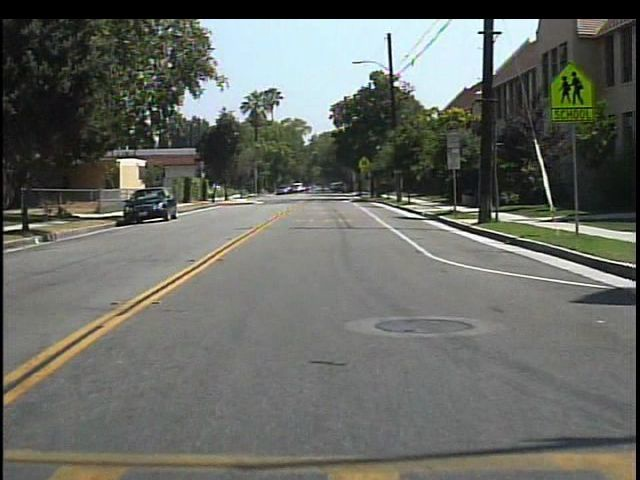person: (315, 179, 330, 196)
